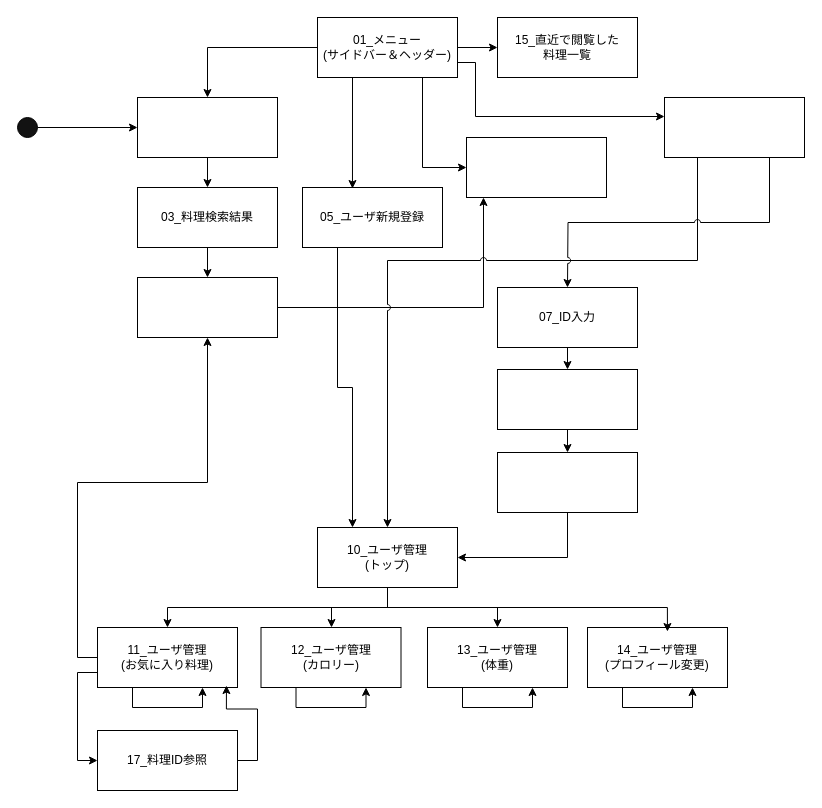
Image size: 822x808. Some labels were removed from this diagram. Here are the shapes that lost their labels. From the top down, the centre of each, then its label:
At (x=207, y=127): "02_料理検索".
At (x=734, y=127): "06_ユーザログイン".
At (x=536, y=167): "16_レシピ登録更新".
At (x=207, y=307): "04_レシピ表示".
At (x=567, y=399): "08_質問回答".
At (x=567, y=482): "09_パスワード再登録".
